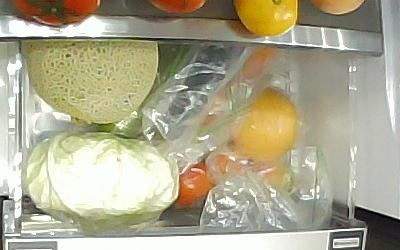cabbage: (27, 133, 178, 224)
carrot_vinyl: (203, 47, 275, 128)
eggplant_vinyl: (147, 44, 245, 147)
melon: (23, 39, 160, 124)
pear_vinyl: (227, 88, 301, 164)
tomato_vinyl: (177, 163, 211, 209)
